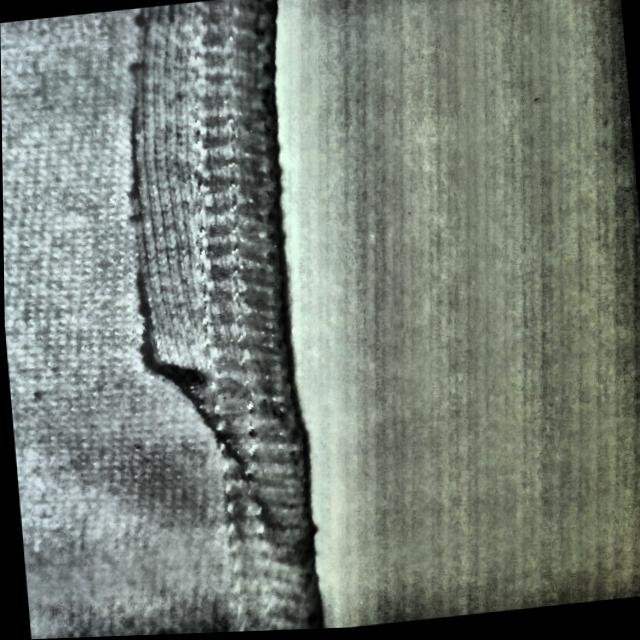seam: (74, 0, 304, 423)
